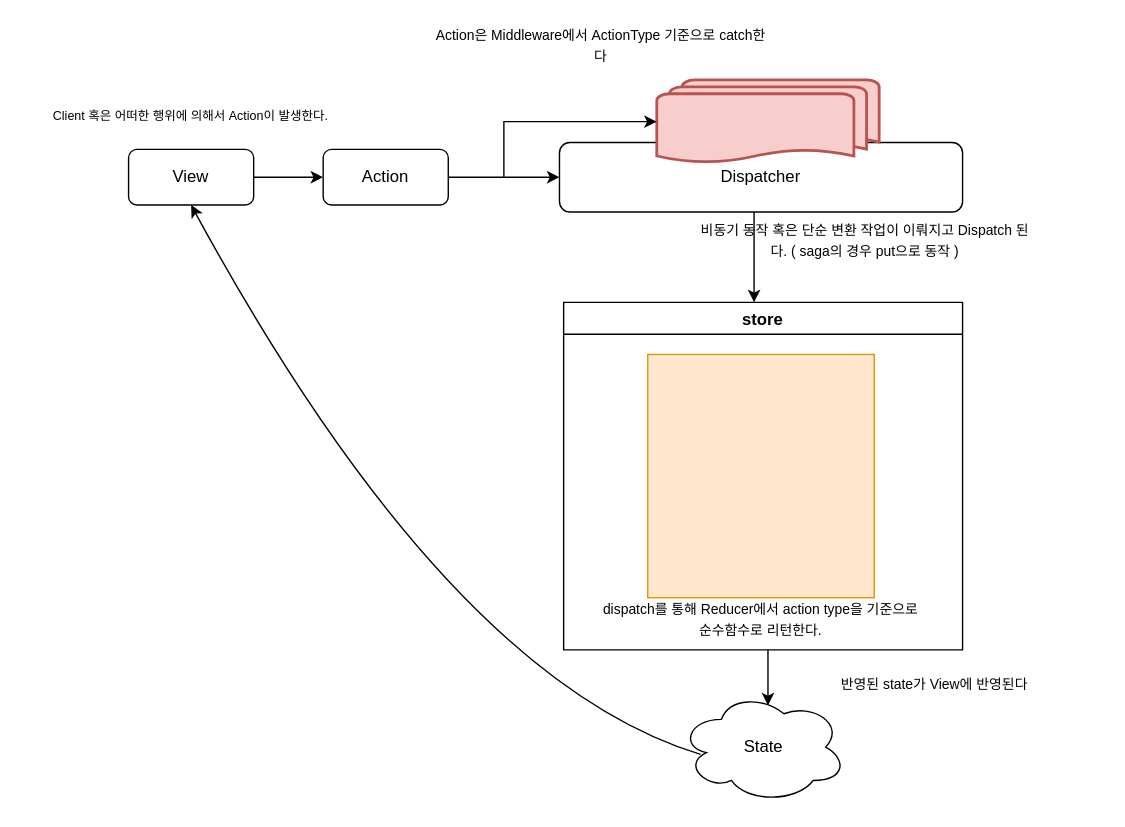
Image size: 1125x827. Some labels were removed from this diagram. Here are the shapes that lost their labels. From the top down, the centre of each, then its label:
At pixel 767 121: "Middleware".
At pixel 760 475: "Reducer".
